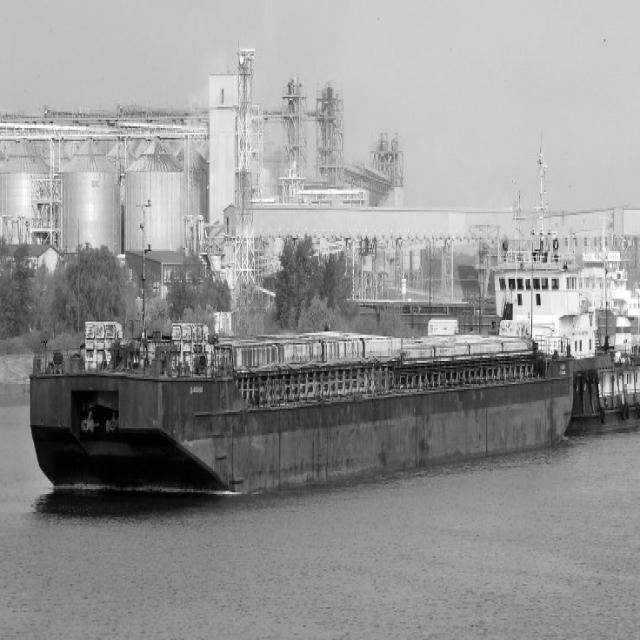tugboat: (451, 229, 640, 456)
